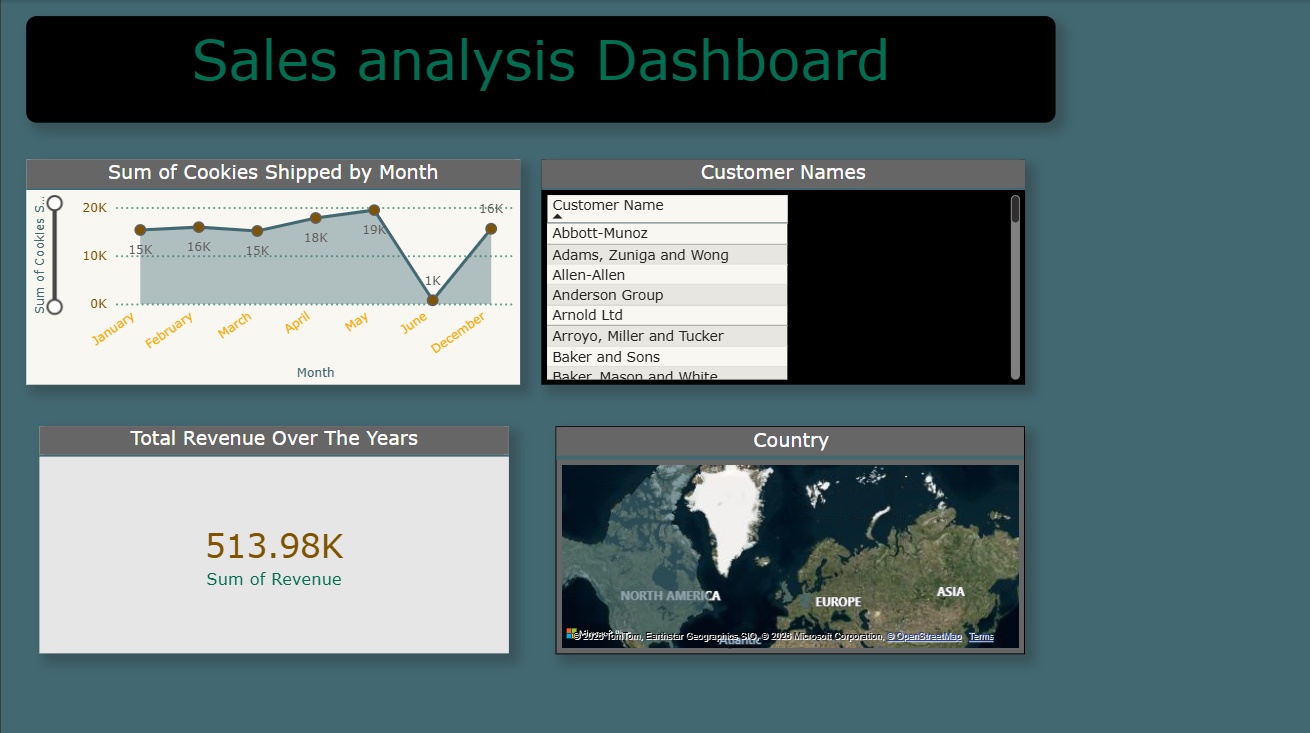

This screenshot's page, from the dashboard's own definition file:
{"tool":"powerbi","page":{"name":"Page 1","canvas":[1280,720],"ordinal":0},"visuals":[{"type":"lineChart","fields":{"Category":["Orders.Order Date.Variation.Date Hierarchy.Year","Orders.Order Date.Variation.Date Hierarchy.Quarter","Orders.Order Date.Variation.Date Hierarchy.Month","Orders.Order Date.Variation.Date Hierarchy.Day"],"Y":["Sum(Orders.Cookies Shipped)"]},"box":[24.7,155.8,482.2,219.9],"z":0},{"type":"card","title":"Total Revenue Over The Years","fields":{"Values":["Sum(Orders.Revenue)"]},"box":[37.5,416.1,458.5,221.9],"z":1000},{"type":"tableEx","title":"Customer Names","fields":{"Values":["Customers.Customer Name"]},"box":[527.6,155.8,472.3,219.9],"z":2000},{"type":"filledMap","fields":{"Category":["Customers.Country"]},"box":[541.4,416.1,458.5,222.9],"z":3000},{"type":"textbox","box":[24.7,15.8,1004.8,103.5],"z":5000}]}

Visuals, with their boxes in screenshot pixels (x1, y1, x2, y2), scaled from the page's 1280x720 canvas onto the 1310x733 screenshot:
lineChart - Orders.Order Date.Variation.Date Hierarchy.Year x Orders.Order Date.Variation.Date Hierarchy.Quarter: (left=25, top=159, right=519, bottom=382)
"Total Revenue Over The Years" card: (left=38, top=424, right=508, bottom=650)
"Customer Names" tableEx: (left=540, top=159, right=1023, bottom=382)
filledMap - Customers.Country: (left=554, top=424, right=1023, bottom=651)
textbox: (left=25, top=16, right=1054, bottom=121)
